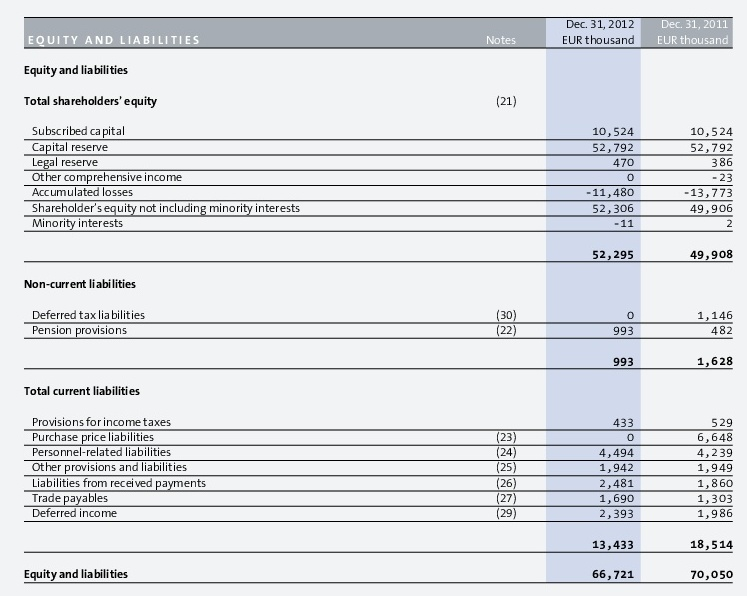table: (0, 0, 747, 596)
